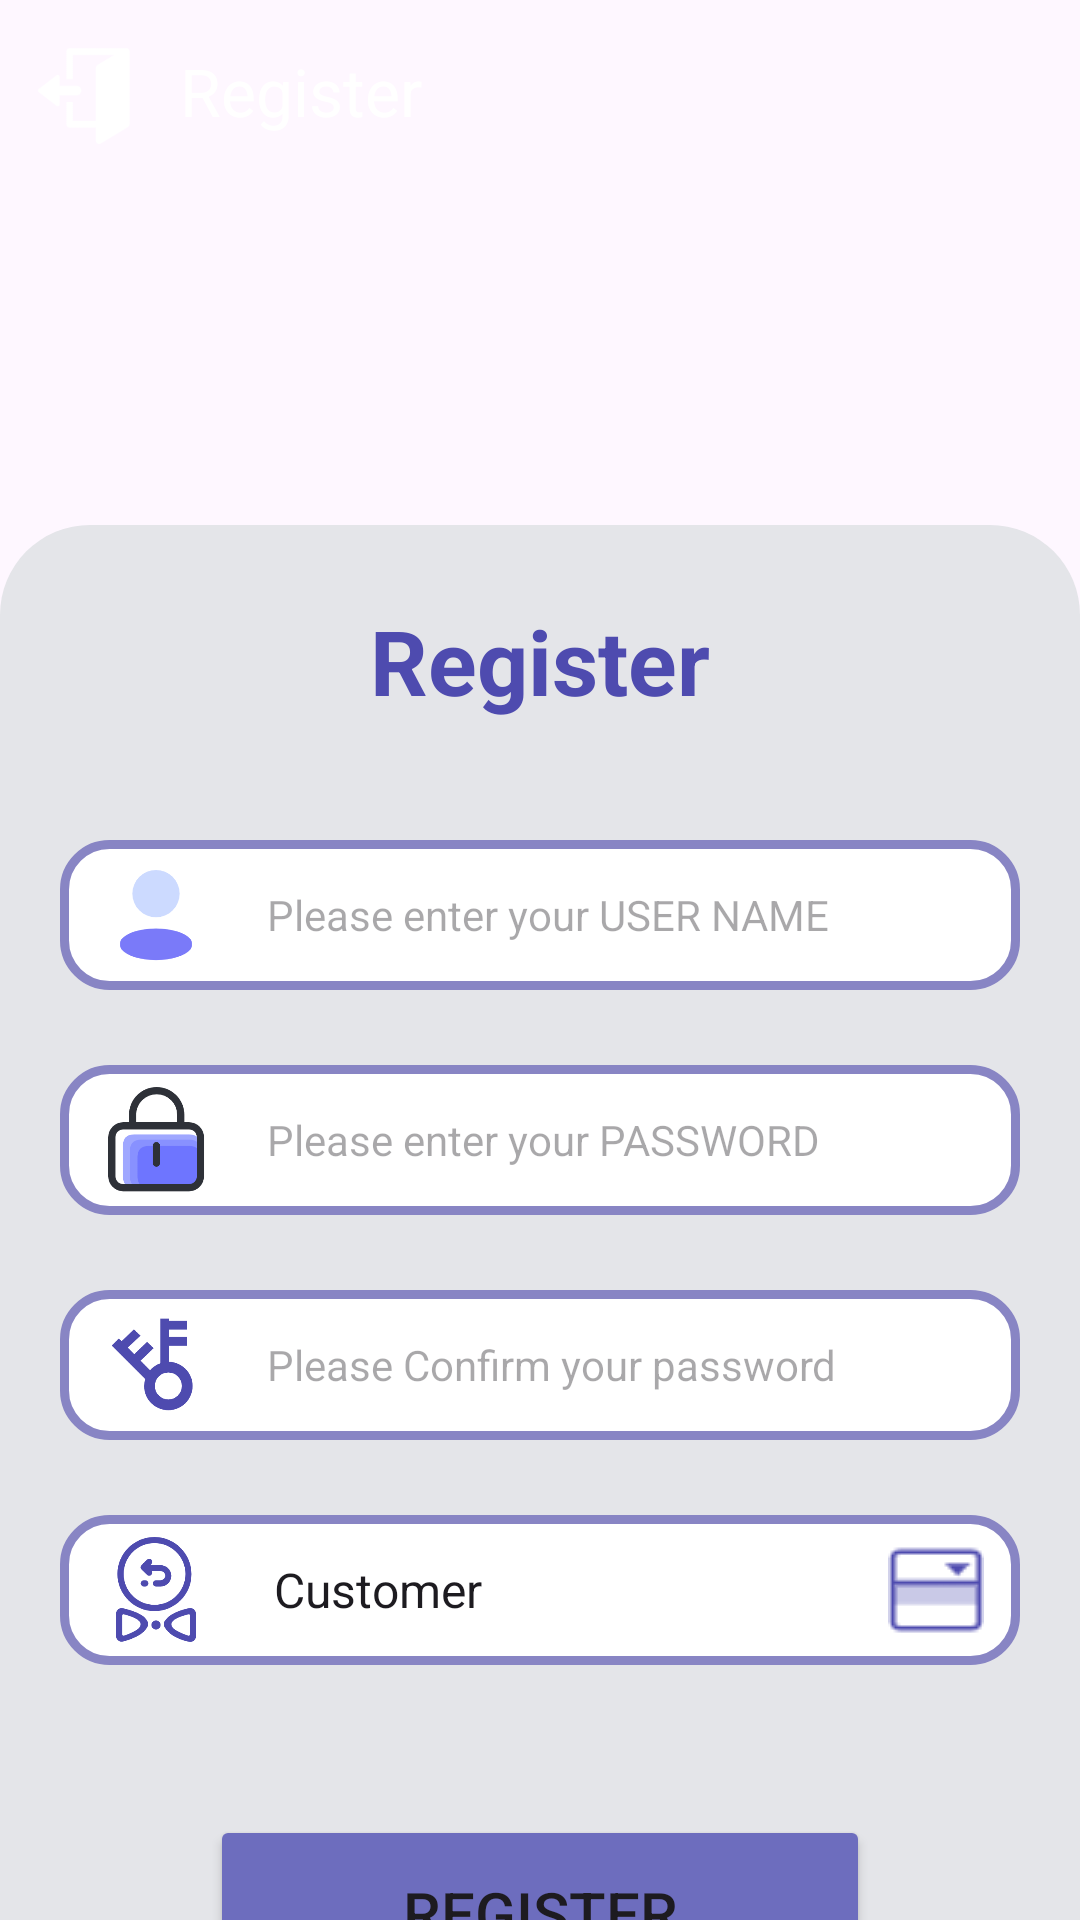

Icon bounding boxes for this 1080px×1920px phone screenshot, format (x1=x1, y1=y1, x2=x2, y2=y2):
change role: (x1=116, y1=1537, x2=196, y2=1642)
